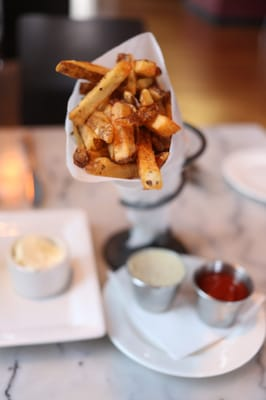pizza: (192, 259, 254, 329), (127, 247, 187, 313)
sushi: (192, 259, 254, 328)
